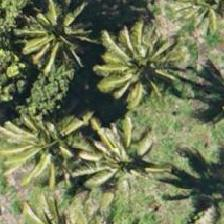coconut_tree: (76, 116, 166, 206), (77, 19, 167, 109), (0, 0, 84, 88), (0, 89, 77, 179)
